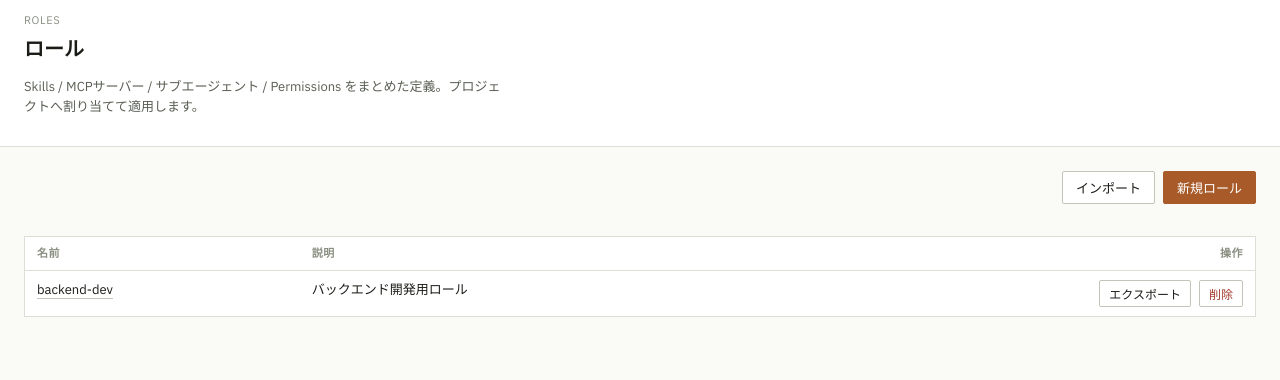
it: Roles › creates a role and reloads the list
This screenshot has width=1280, height=380.
Check: the link "backend-dev" is shown, box [37,281,113,299]
Click the button "新規ロール" at x=1210, y=188, box [1163,171,1256,204]
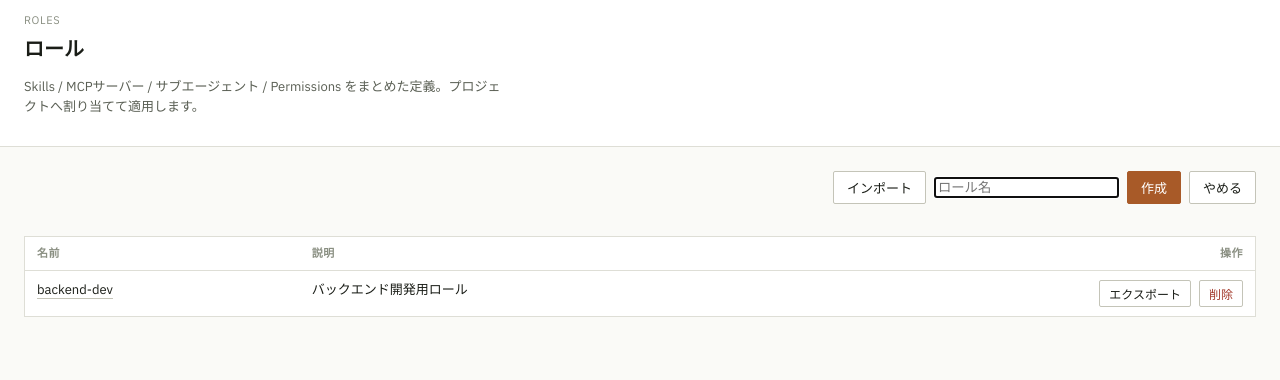
Type "new-role" into the field at x=1026, y=188, box [934,177,1119,198]
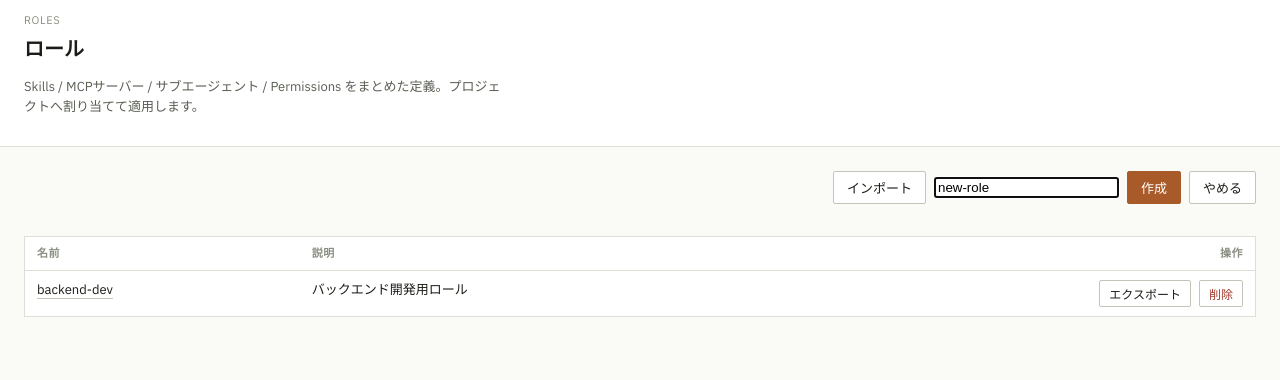
Click the button "作成" at x=1154, y=188, box [1127,171,1181,204]
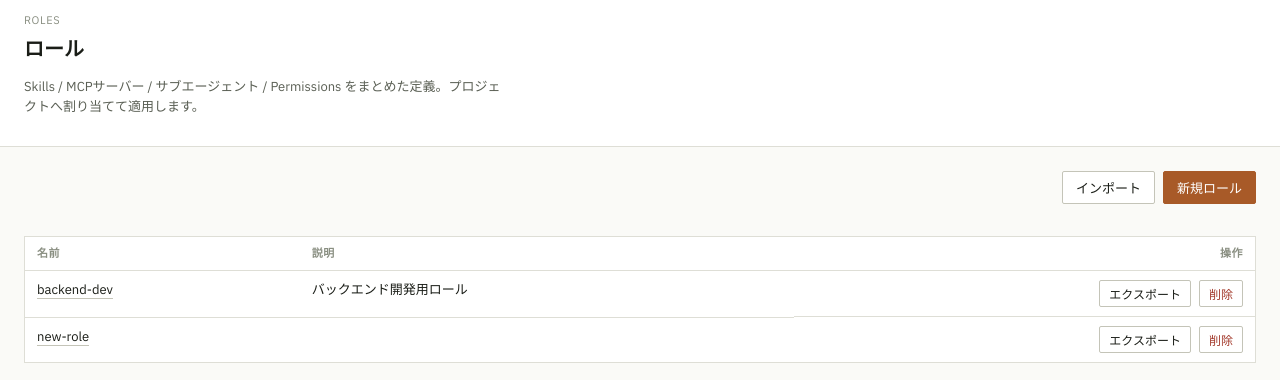
Check: the link "new-role" is shown, box [37,328,89,346]
